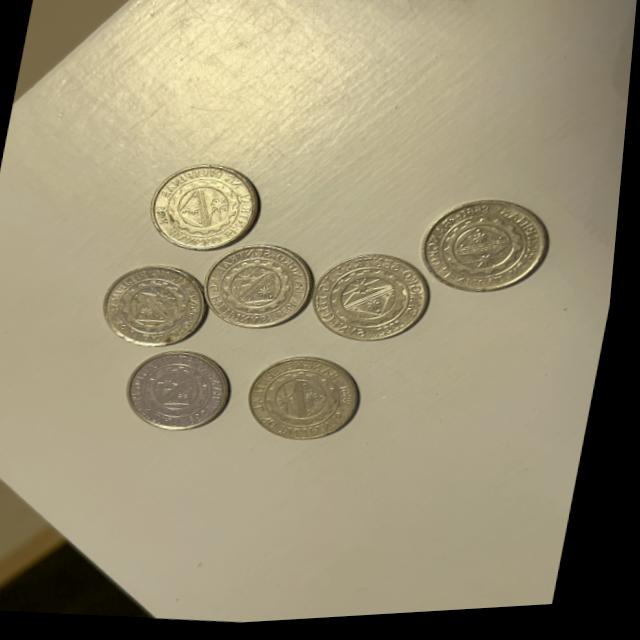1_Old_Back: (436, 214, 543, 297), (154, 174, 252, 249), (330, 265, 423, 341), (265, 363, 358, 438), (215, 254, 308, 324), (138, 359, 225, 426), (114, 273, 197, 342)
